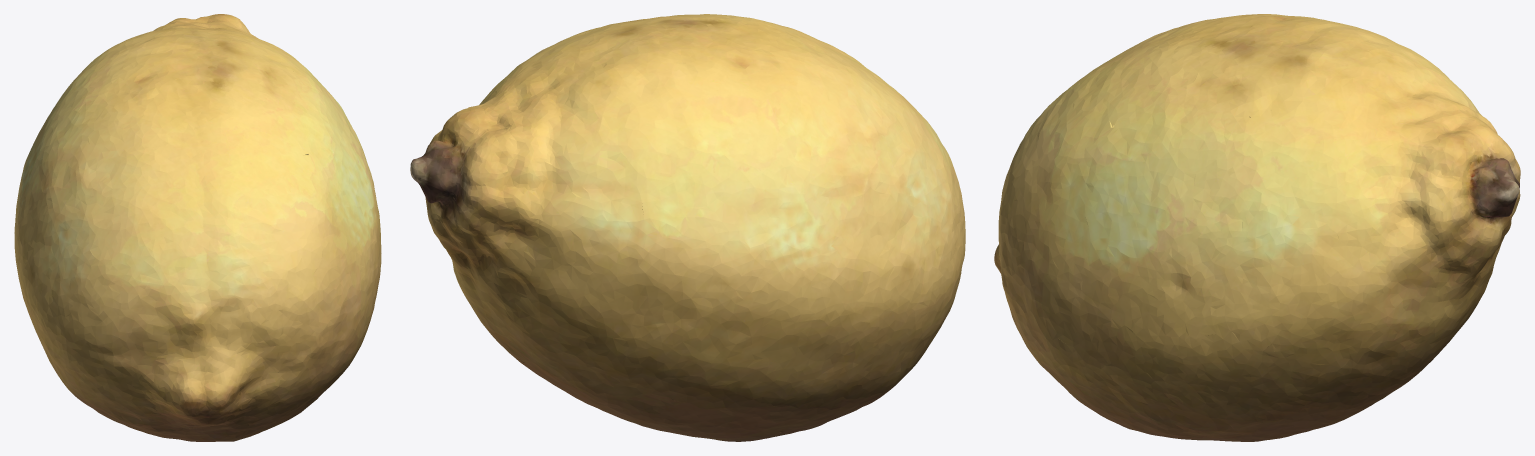
The model's file is Zitrone_low.fbx.
3 renders of one model, left to right at view 1: azimuth 30°, elevation 25°; view 2: azimuth 150°, elevation 25°; view 3: azimuth 270°, elevation 25°, orthographic. The views are drawn at different scales.
Visible parts, largest first — view 1: Zitrone_tex; view 2: Zitrone_tex; view 3: Zitrone_tex.
Boxes of the visible parts, bbox=[...] form: Zitrone_tex: bbox=[14, 14, 381, 441]; Zitrone_tex: bbox=[410, 14, 965, 441]; Zitrone_tex: bbox=[994, 14, 1520, 441].
Size of the model in its own units: 6.38 by 5.96 by 7.15.
1 material, 1 textured.
